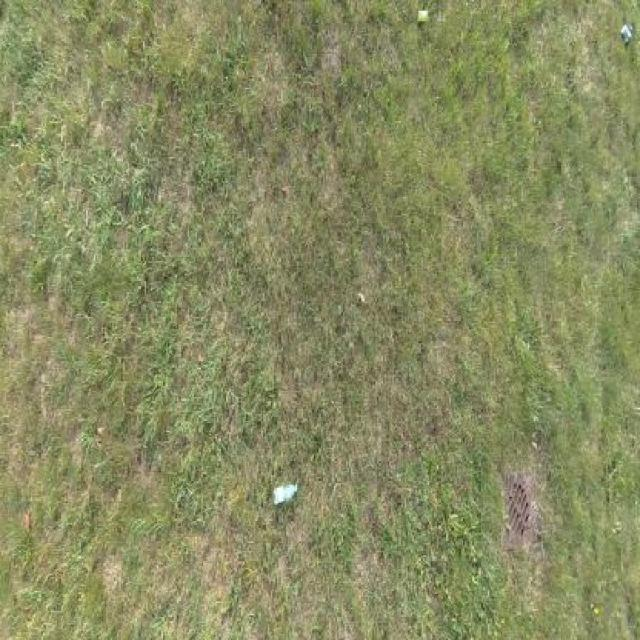Garbage: (272, 481, 297, 506), (619, 25, 634, 50), (418, 10, 428, 23)
